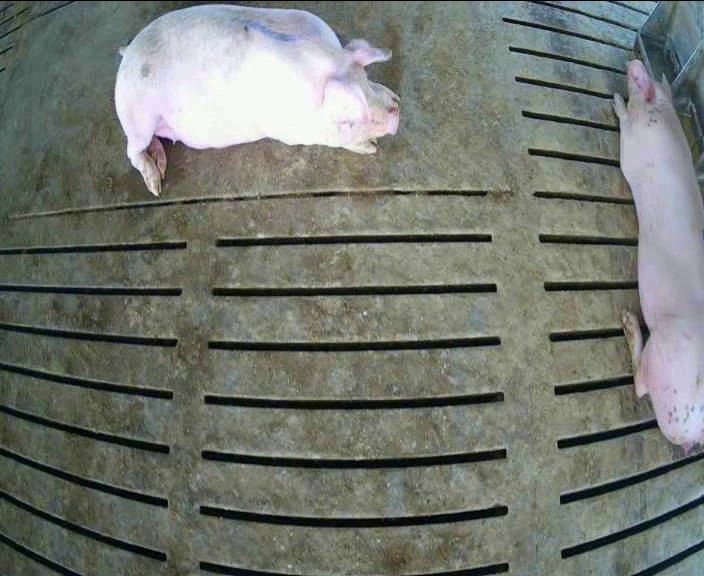pig: (116, 5, 398, 195), (614, 60, 703, 449)
